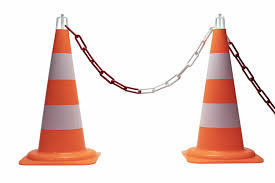cones: (19, 13, 105, 168), (182, 13, 265, 169)
